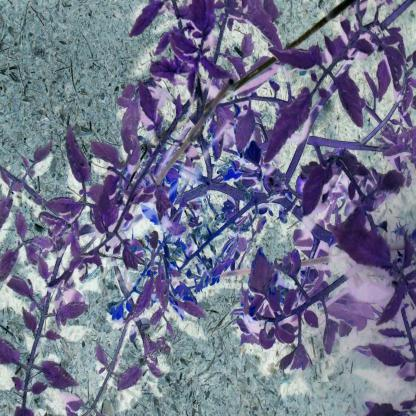Tomato leaf bacterial spot: (266, 86, 316, 164), (337, 63, 370, 131), (265, 39, 327, 74), (299, 155, 332, 219), (244, 248, 281, 300), (202, 104, 234, 164), (131, 81, 168, 131), (146, 51, 200, 85), (88, 138, 129, 178), (131, 265, 158, 324), (228, 107, 257, 161), (278, 238, 302, 289)
